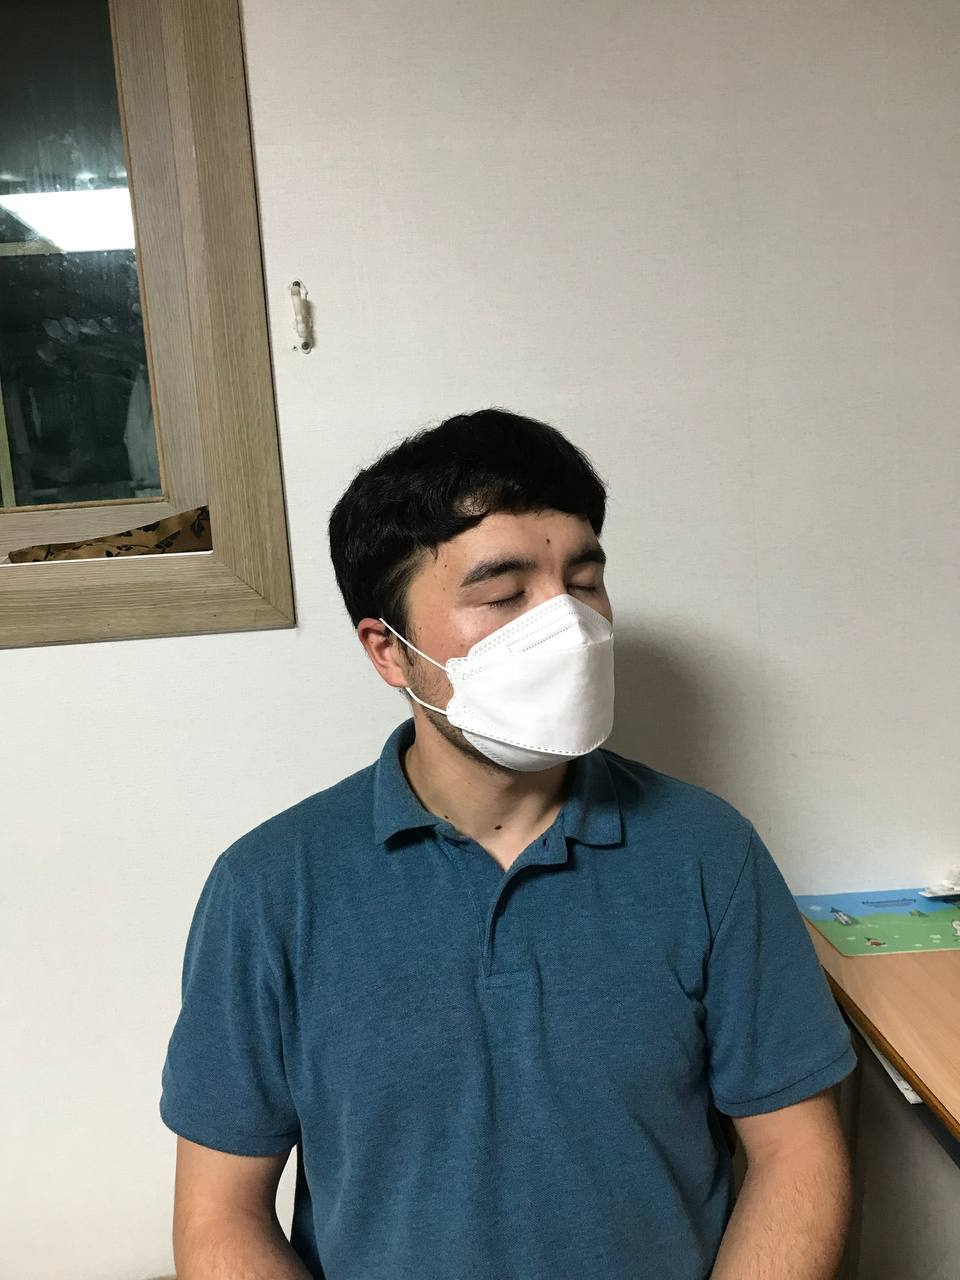Mask: (347, 602, 621, 774)
